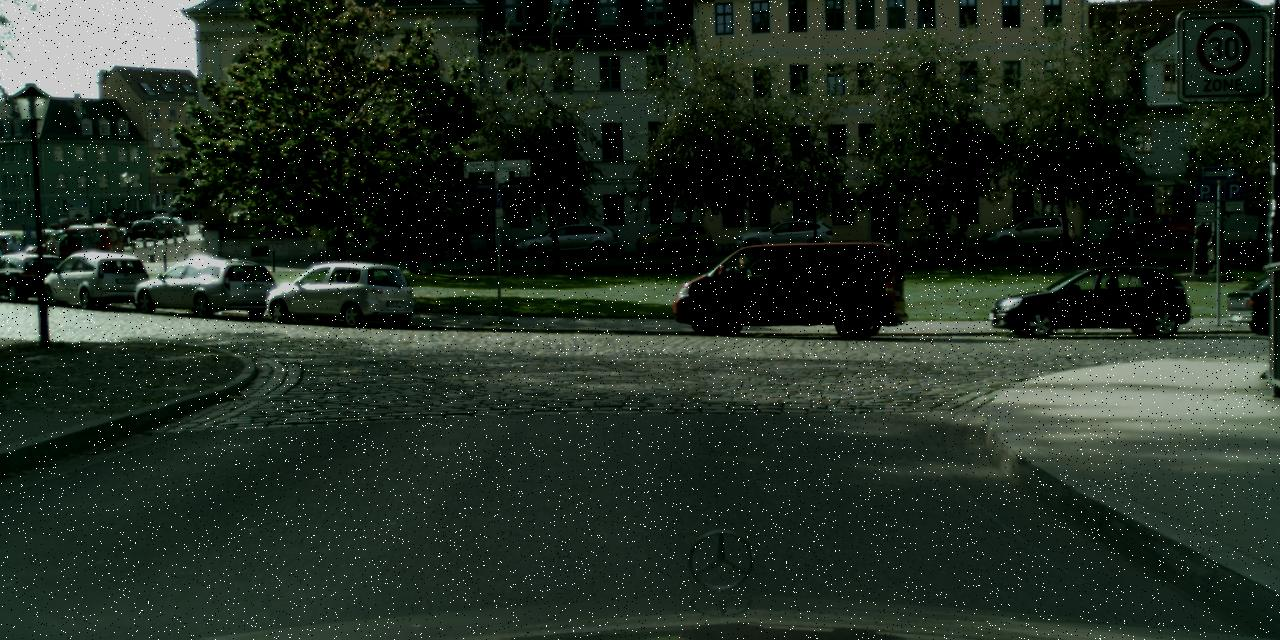ped: (4, 234, 23, 280), (44, 231, 60, 274), (104, 218, 118, 251), (123, 218, 133, 245)
